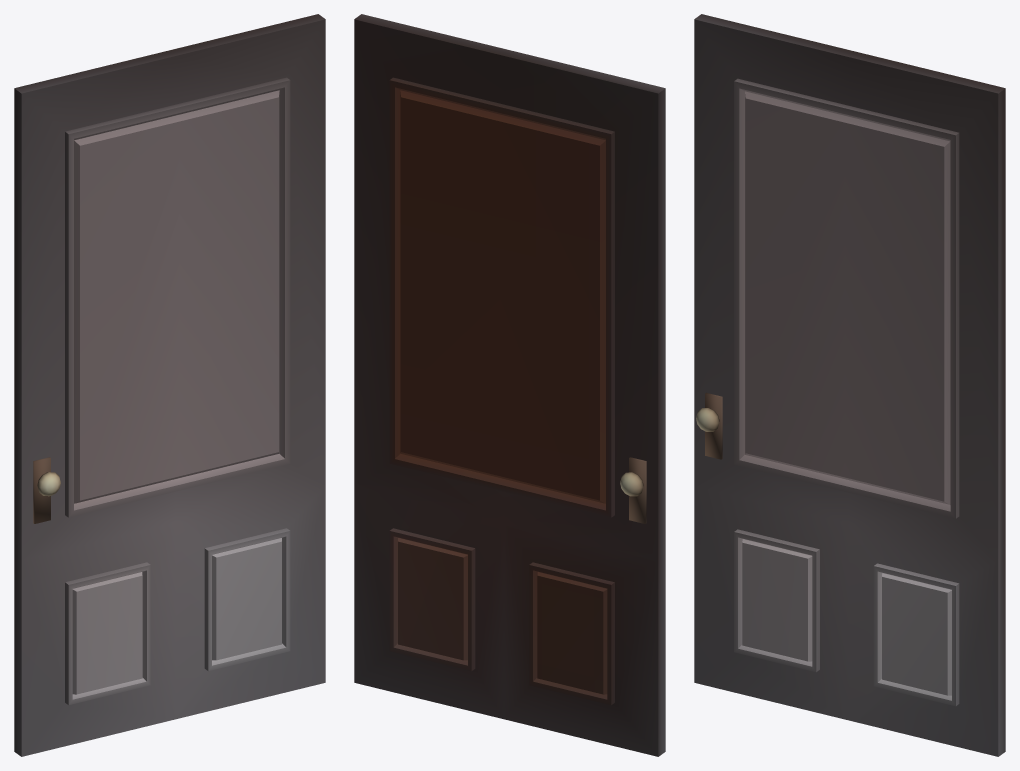
File: door_gamesroom.glb
The picture shows the model from 3 angles, left to right: view 1: azimuth 30°, elevation 25°; view 2: azimuth 150°, elevation 25°; view 3: azimuth 330°, elevation 25°; orthographic projection.
Parts seen in each view (by area): view 1: Object040; view 2: Object040; view 3: Object040.
Part boxes in pixels (box(x1,y1,x2,y2)): Object040: box(14, 14, 325, 756); Object040: box(354, 14, 665, 756); Object040: box(694, 14, 1005, 756).
Size of the model in its own units: 0.12 by 0.25 by 0.0196.
